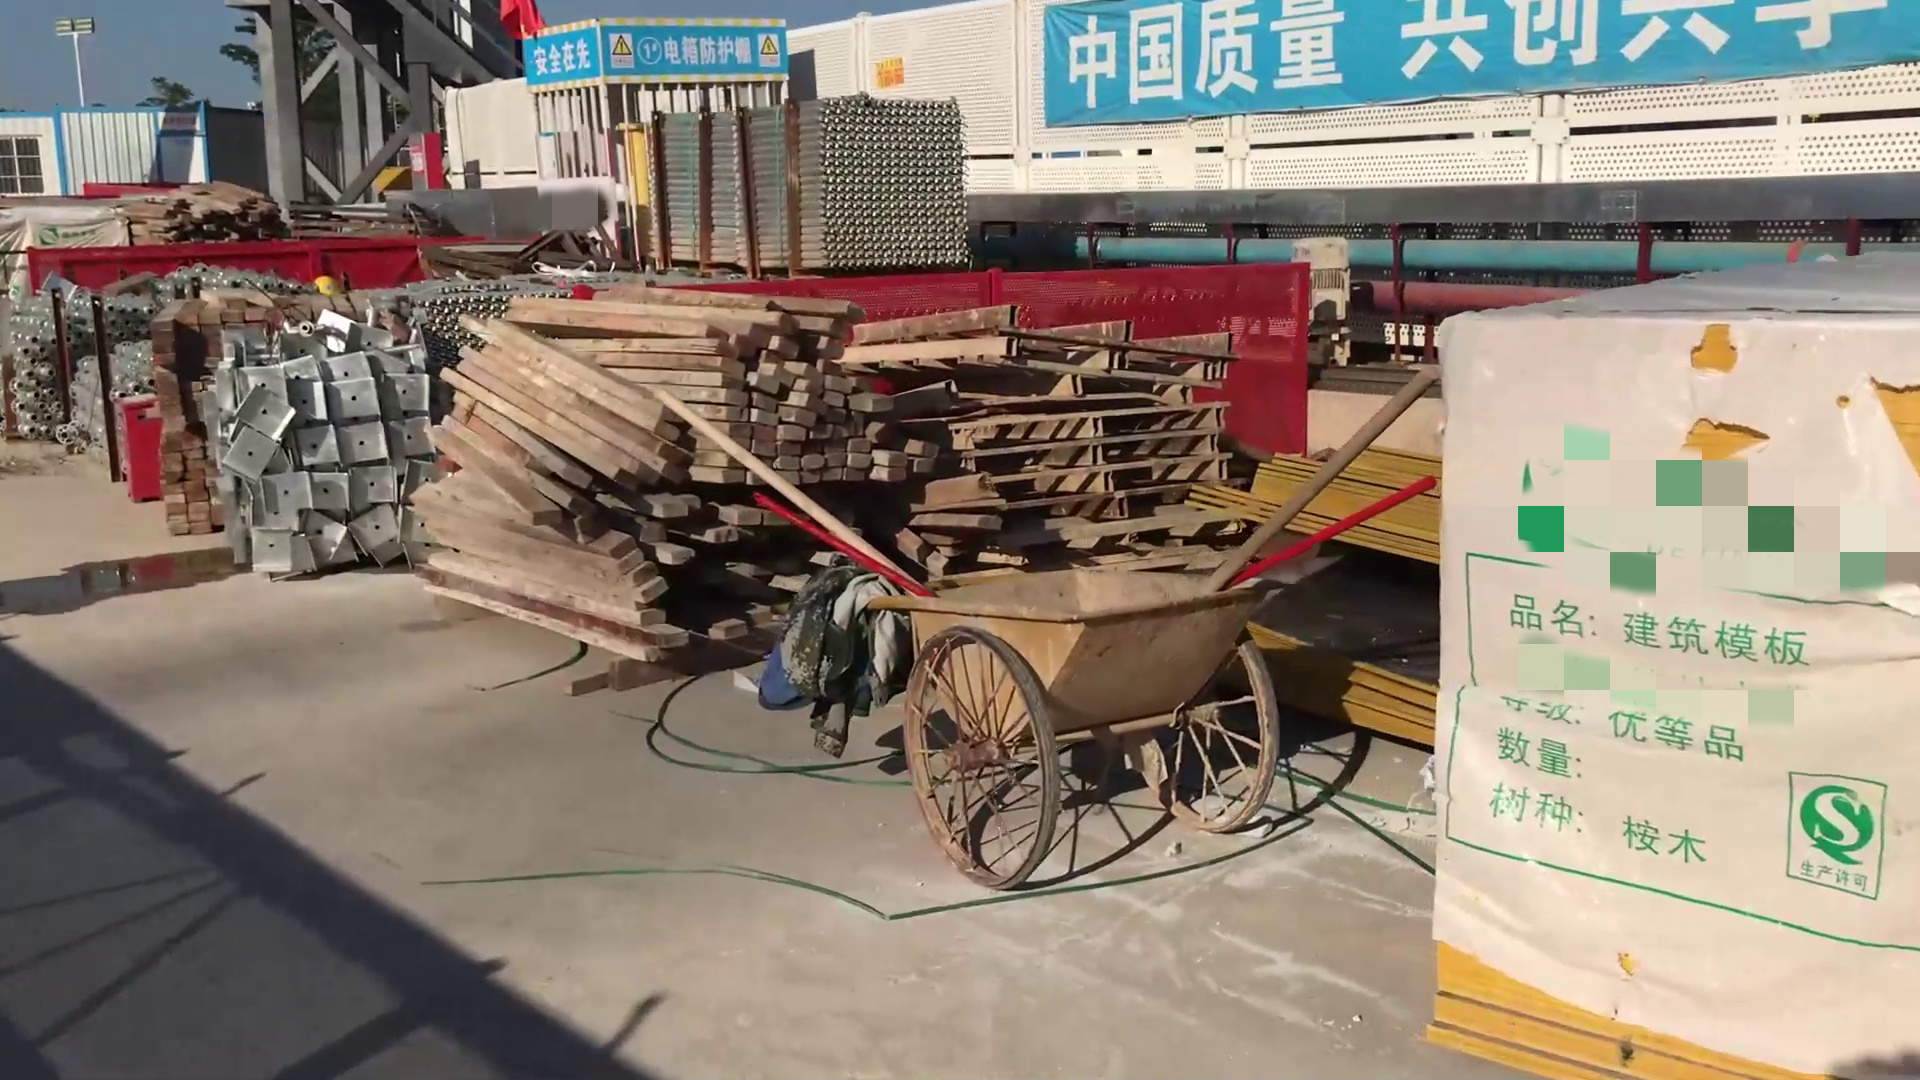board: (1447, 319, 1905, 1080), (1226, 442, 1443, 741)
fence: (889, 266, 1305, 440)
handcart: (905, 553, 1288, 889)
scaffold: (621, 108, 973, 272), (11, 295, 152, 476)
slogan: (1048, 1, 1919, 113), (527, 32, 600, 76)
wood: (425, 285, 909, 669), (150, 301, 222, 535), (136, 185, 273, 247)
